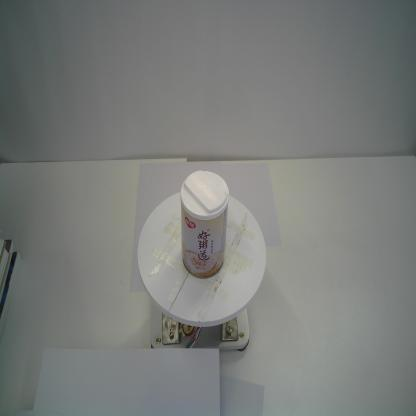Canned Food: (180, 168, 232, 281)
